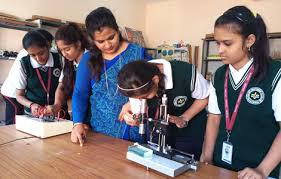Person: (210, 17, 279, 179), (79, 6, 138, 139), (128, 58, 203, 146), (19, 28, 61, 113)
